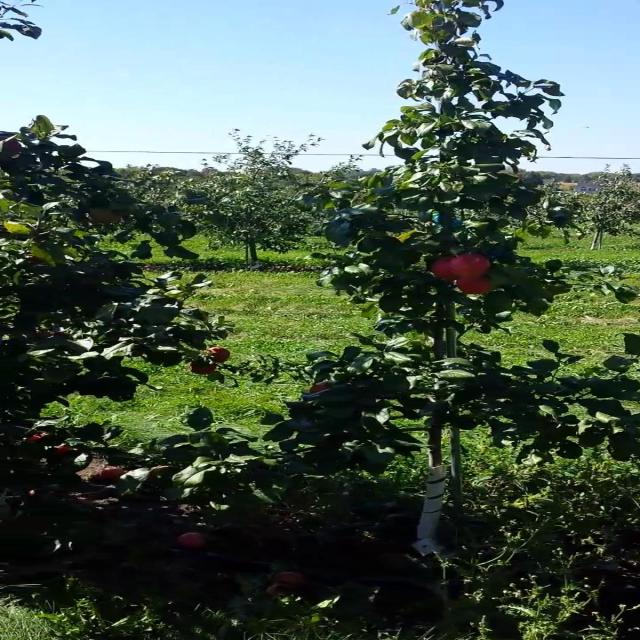apple: (434, 254, 476, 280), (451, 254, 489, 278), (454, 275, 494, 295), (428, 256, 461, 280), (86, 207, 122, 223), (203, 346, 230, 363), (187, 360, 217, 374), (306, 382, 331, 394), (4, 139, 22, 153), (24, 432, 45, 442), (52, 445, 72, 455)
